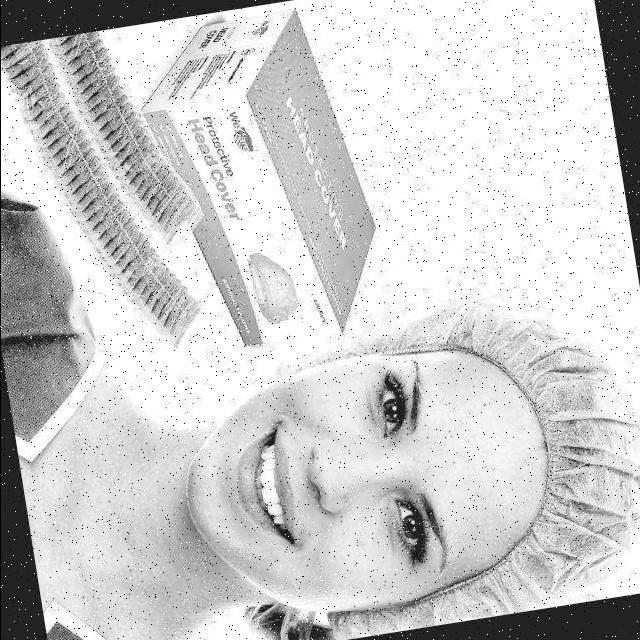gloves: (471, 349, 640, 623)
no_hairnet: (194, 400, 356, 578)
